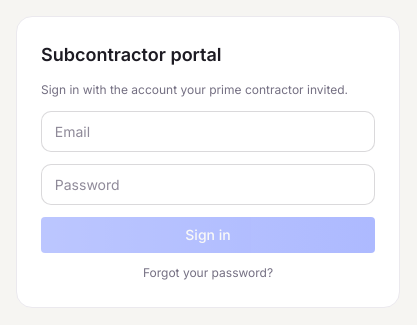
partner sign-in › stops at the second factor instead of storing a session
In the field labelled "Email": (208, 132) [41, 111, 375, 152], type "a@b.test"
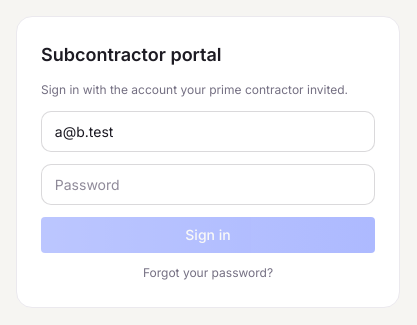
In the password field labelled "Password": (208, 184) [41, 164, 375, 205], type "pw"
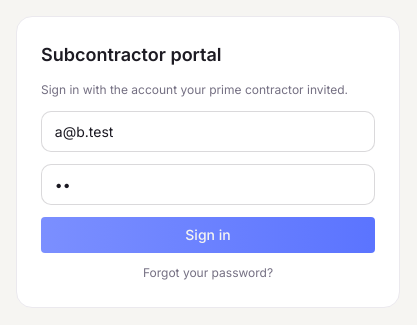
Click the button "Sign in": click(208, 235) [41, 217, 375, 253]
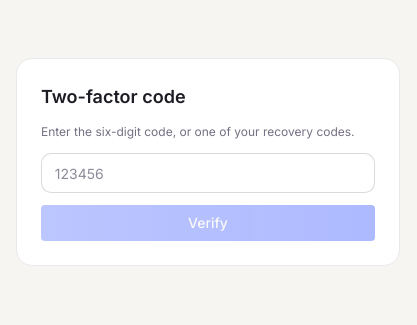
Check: the heading "Two-factor code" is shown, box [41, 86, 186, 107]
